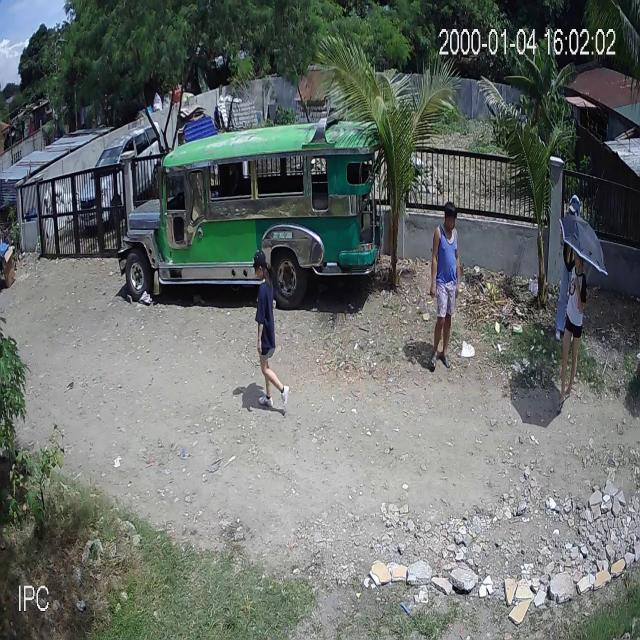standing: (554, 194, 586, 344)
walking: (425, 198, 465, 384), (257, 251, 300, 419), (553, 243, 588, 404)
